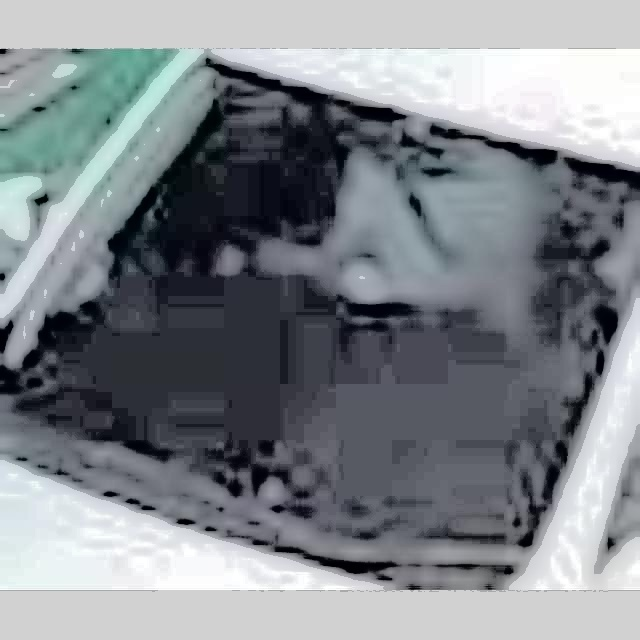pakai: (288, 133, 542, 316)
